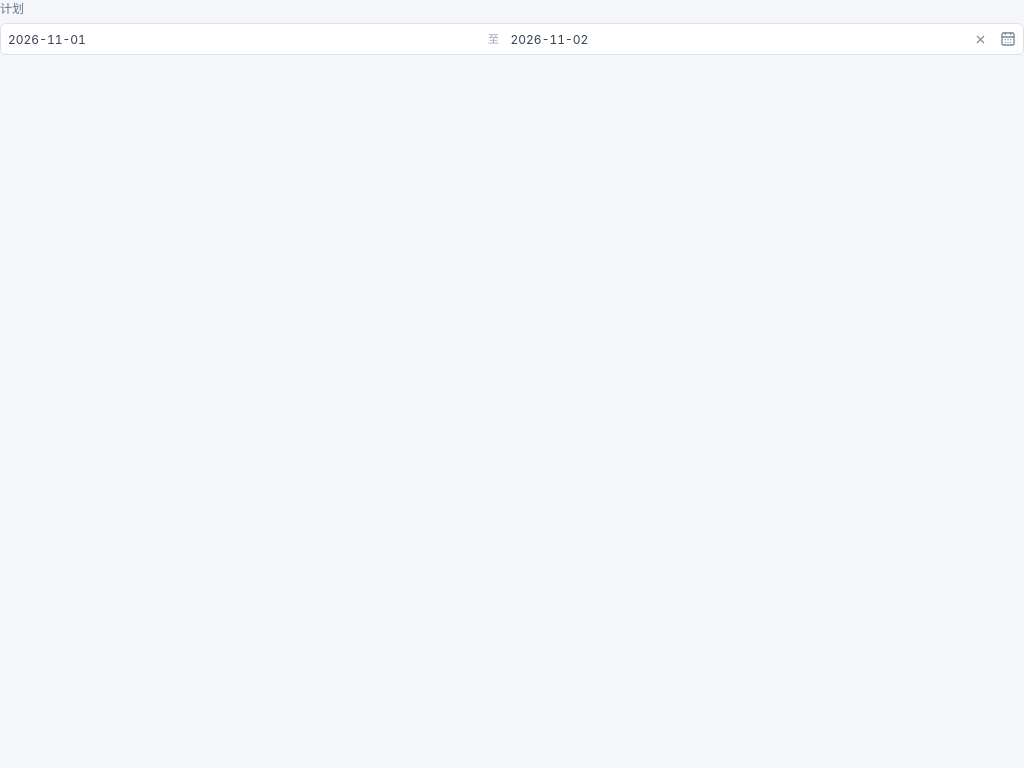
Test case: custom temporal popover interactions › allows equal date range boundaries without dropping either endpoint
Click the button named "选择计划" at (1008, 39), box [994,25,1022,53]
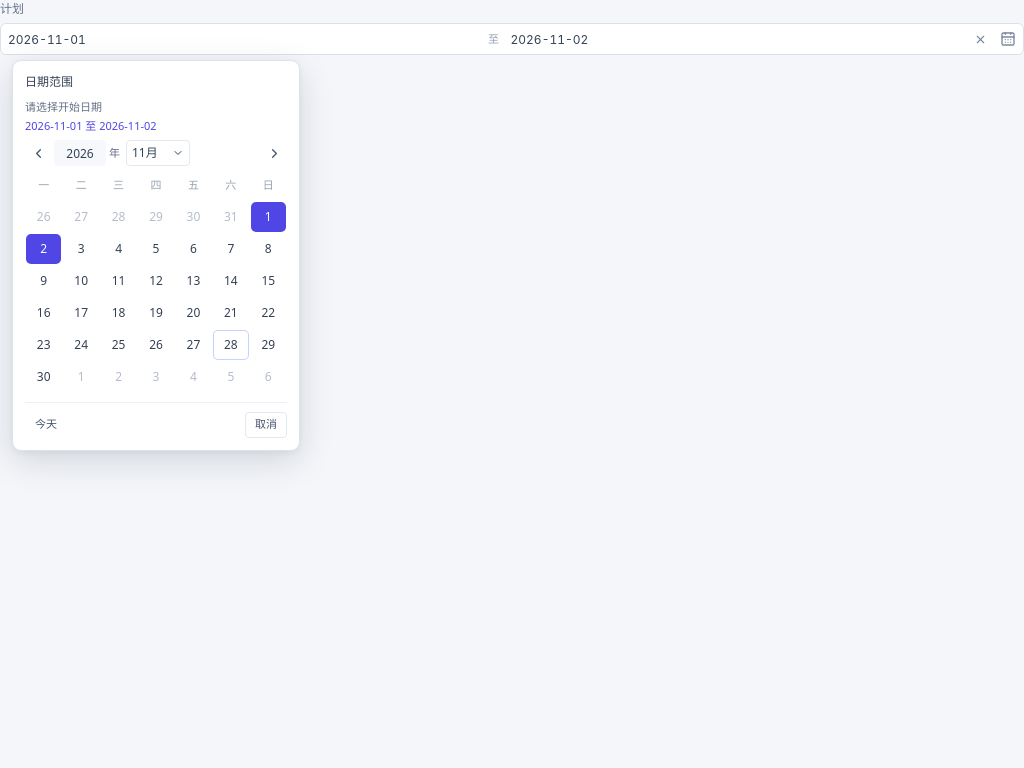
Click the button named "2026-11-08" at (268, 248), box [251,234,286,264]
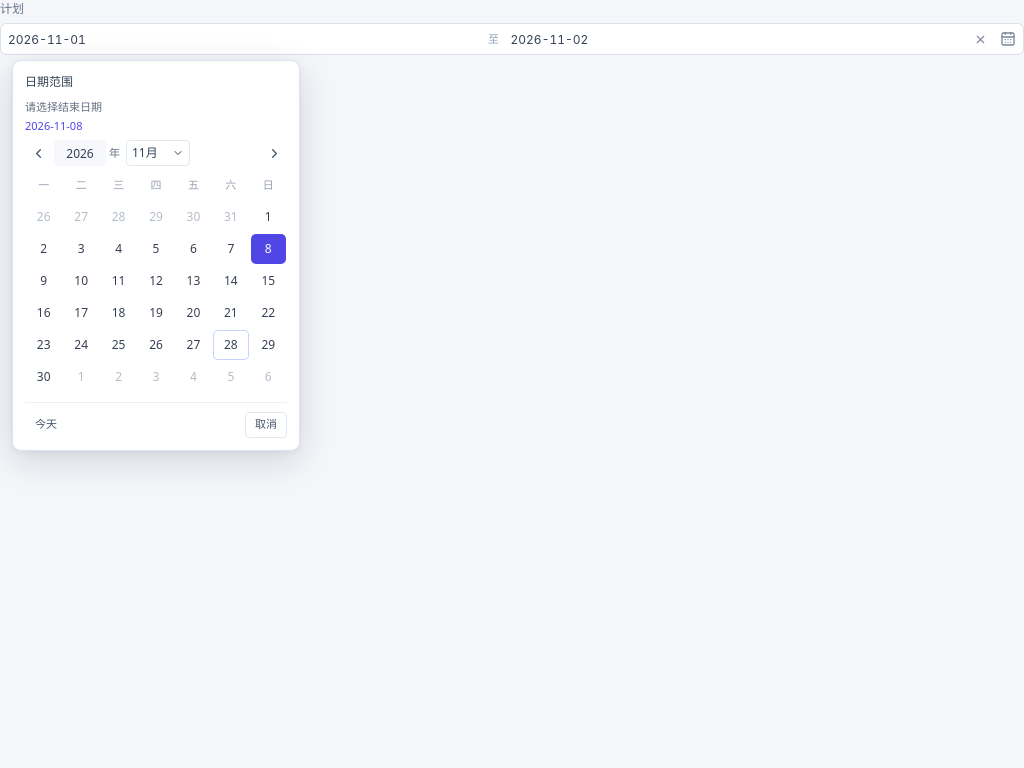
Click the button named "2026-11-08" at (268, 248), box [251,234,286,264]
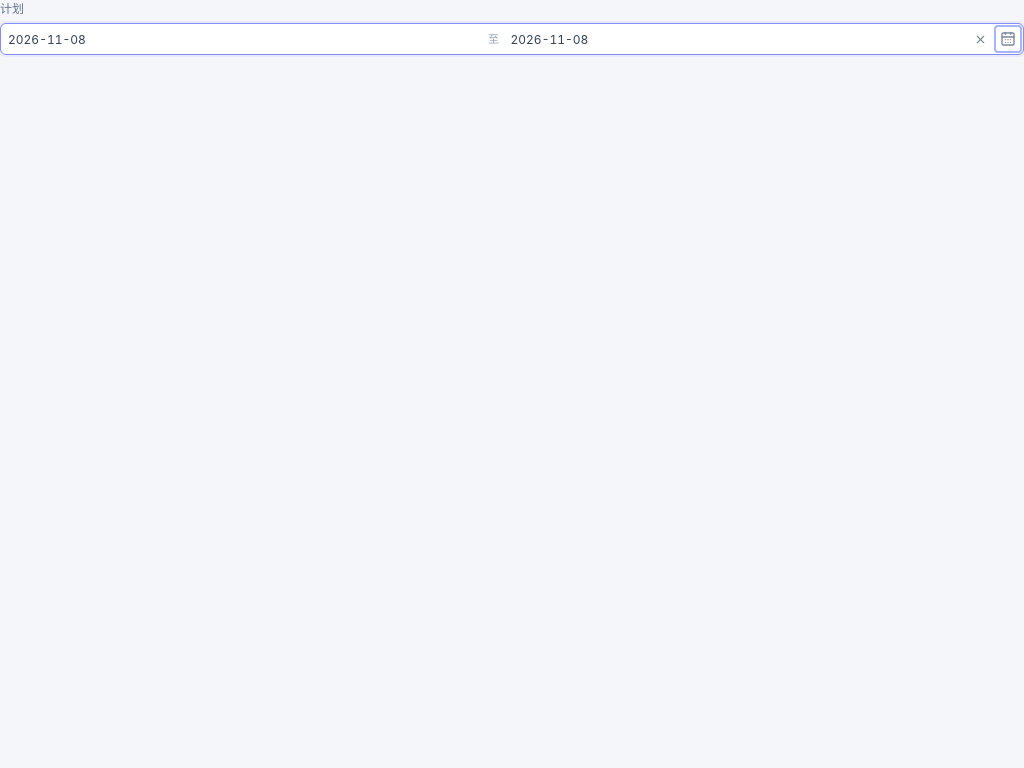
Check: the message is gone
Check: the dialog is gone
